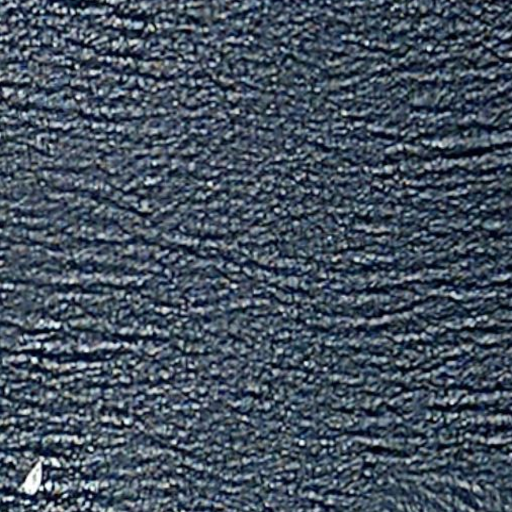ship: (17, 458, 46, 497)
